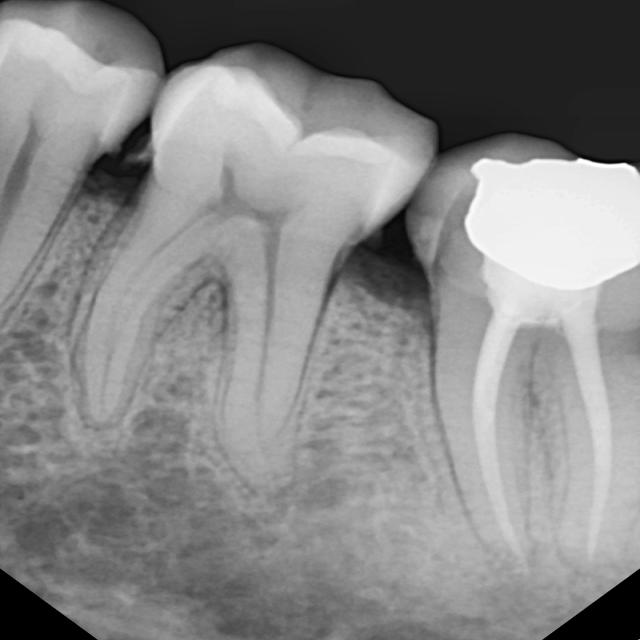RCT: (472, 294, 616, 571)
Restoration: (456, 156, 640, 294)
